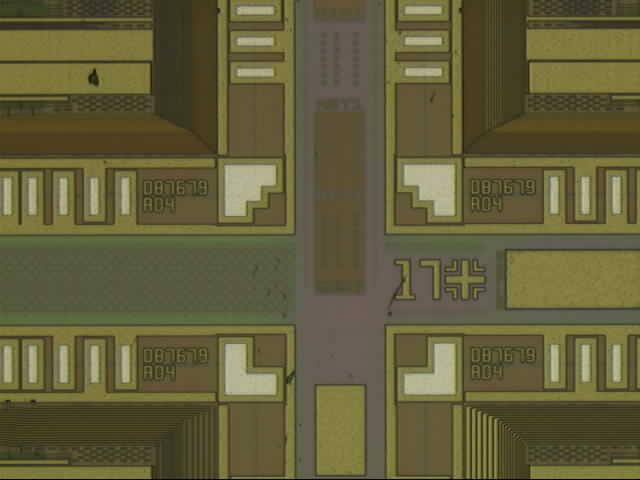PO CONTAMINATION: (4, 1, 471, 474)
